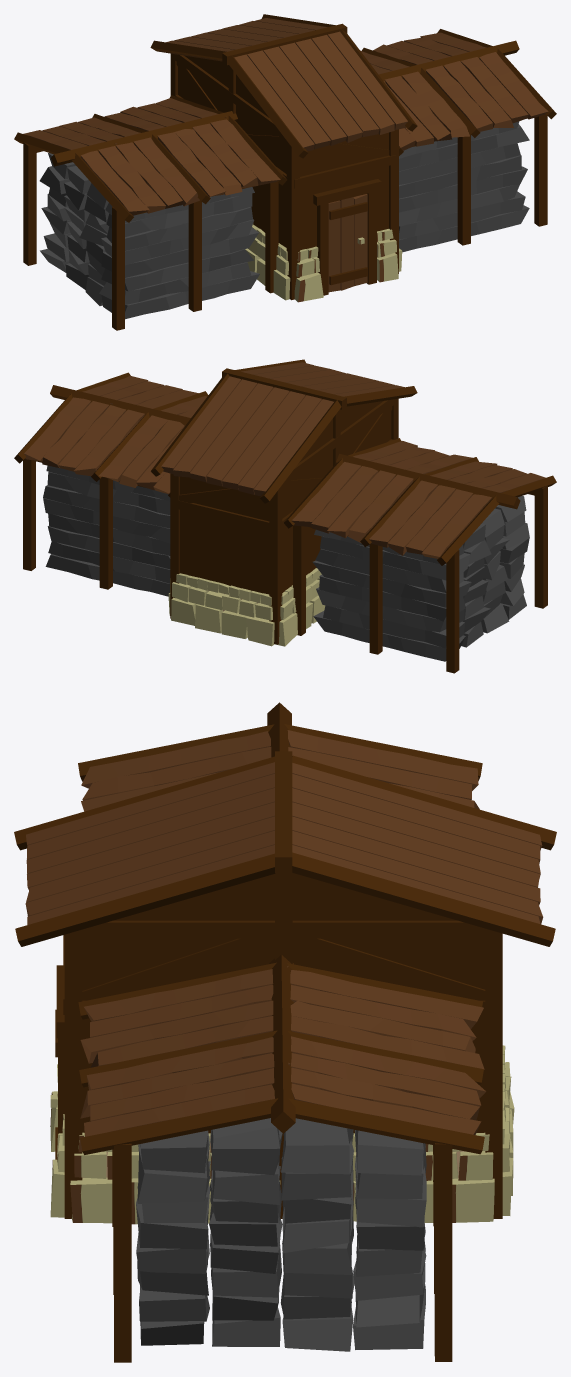
Rendered from WoodStorage.fbx.
The picture shows the model from 3 angles, top to bottom: view 1: azimuth 30°, elevation 25°; view 2: azimuth 150°, elevation 25°; view 3: azimuth 270°, elevation 25°; orthographic projection. The views are drawn at different scales.
Visible parts, largest first — view 1: Cube.002, Wood 25%, Wood 50%, Wood 75%, Wood 100%; view 2: Cube.002, Wood 75%, Wood 25%, Wood 50%, Wood 100%; view 3: Cube.002, Wood 100%, Wood 25%, Wood 50%, Wood 75%.
Boxes of the visible parts, x1,y1,x2,y2 form: Cube.002: (14, 14, 556, 330); Wood 25%: (40, 191, 529, 319); Wood 50%: (41, 166, 527, 291); Wood 75%: (47, 143, 521, 265); Wood 100%: (39, 121, 529, 236); Cube.002: (14, 359, 556, 673); Wood 75%: (43, 485, 529, 607); Wood 25%: (45, 541, 526, 661); Wood 50%: (47, 513, 524, 632); Wood 100%: (46, 465, 526, 580); Cube.002: (14, 702, 556, 1362); Wood 100%: (137, 1118, 425, 1204); Wood 25%: (139, 1218, 425, 1351); Wood 50%: (136, 1160, 426, 1300); Wood 75%: (136, 1129, 426, 1253).
Bounding box in the file's own units: 1811 × 767 × 1016.
